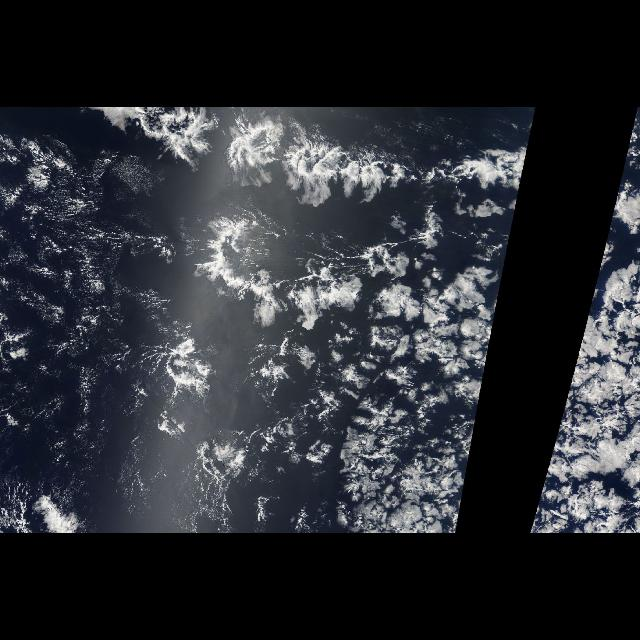Flower: (219, 115, 519, 519), (546, 199, 640, 466)
